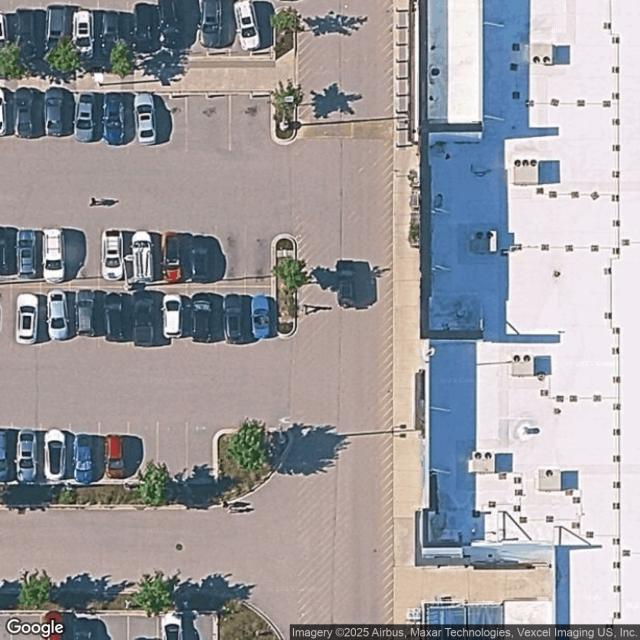car: (157, 0, 201, 49), (129, 2, 163, 52), (10, 291, 40, 347), (40, 228, 70, 283), (43, 86, 75, 136), (12, 87, 44, 137), (12, 8, 40, 62), (73, 92, 103, 142), (41, 428, 68, 483), (45, 289, 73, 340), (187, 292, 214, 344), (133, 93, 158, 148), (71, 433, 96, 488), (234, 0, 261, 50), (102, 431, 127, 485), (101, 91, 126, 145), (132, 291, 156, 347), (98, 9, 125, 58), (101, 228, 126, 280), (101, 290, 126, 342), (128, 232, 153, 284), (189, 231, 212, 286), (74, 289, 100, 337), (14, 229, 39, 278), (161, 232, 184, 283), (16, 430, 38, 481), (248, 295, 271, 340), (160, 294, 183, 338), (0, 225, 18, 276), (47, 5, 67, 48), (73, 10, 93, 52), (159, 610, 187, 640), (0, 86, 15, 135), (41, 611, 66, 639), (0, 427, 12, 480)
lot_boundary: (1, 0, 289, 637)
